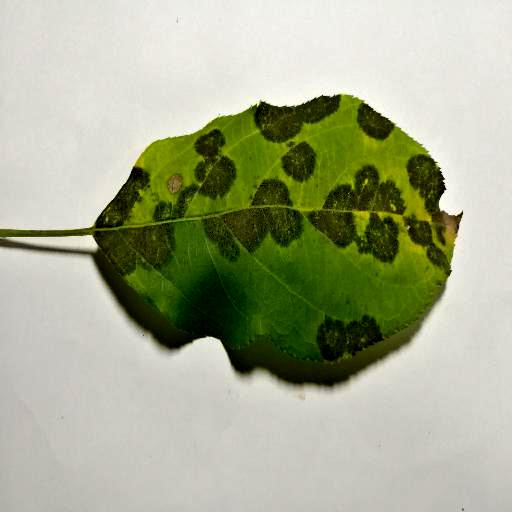Brown_Spot: (99, 103, 496, 444)
